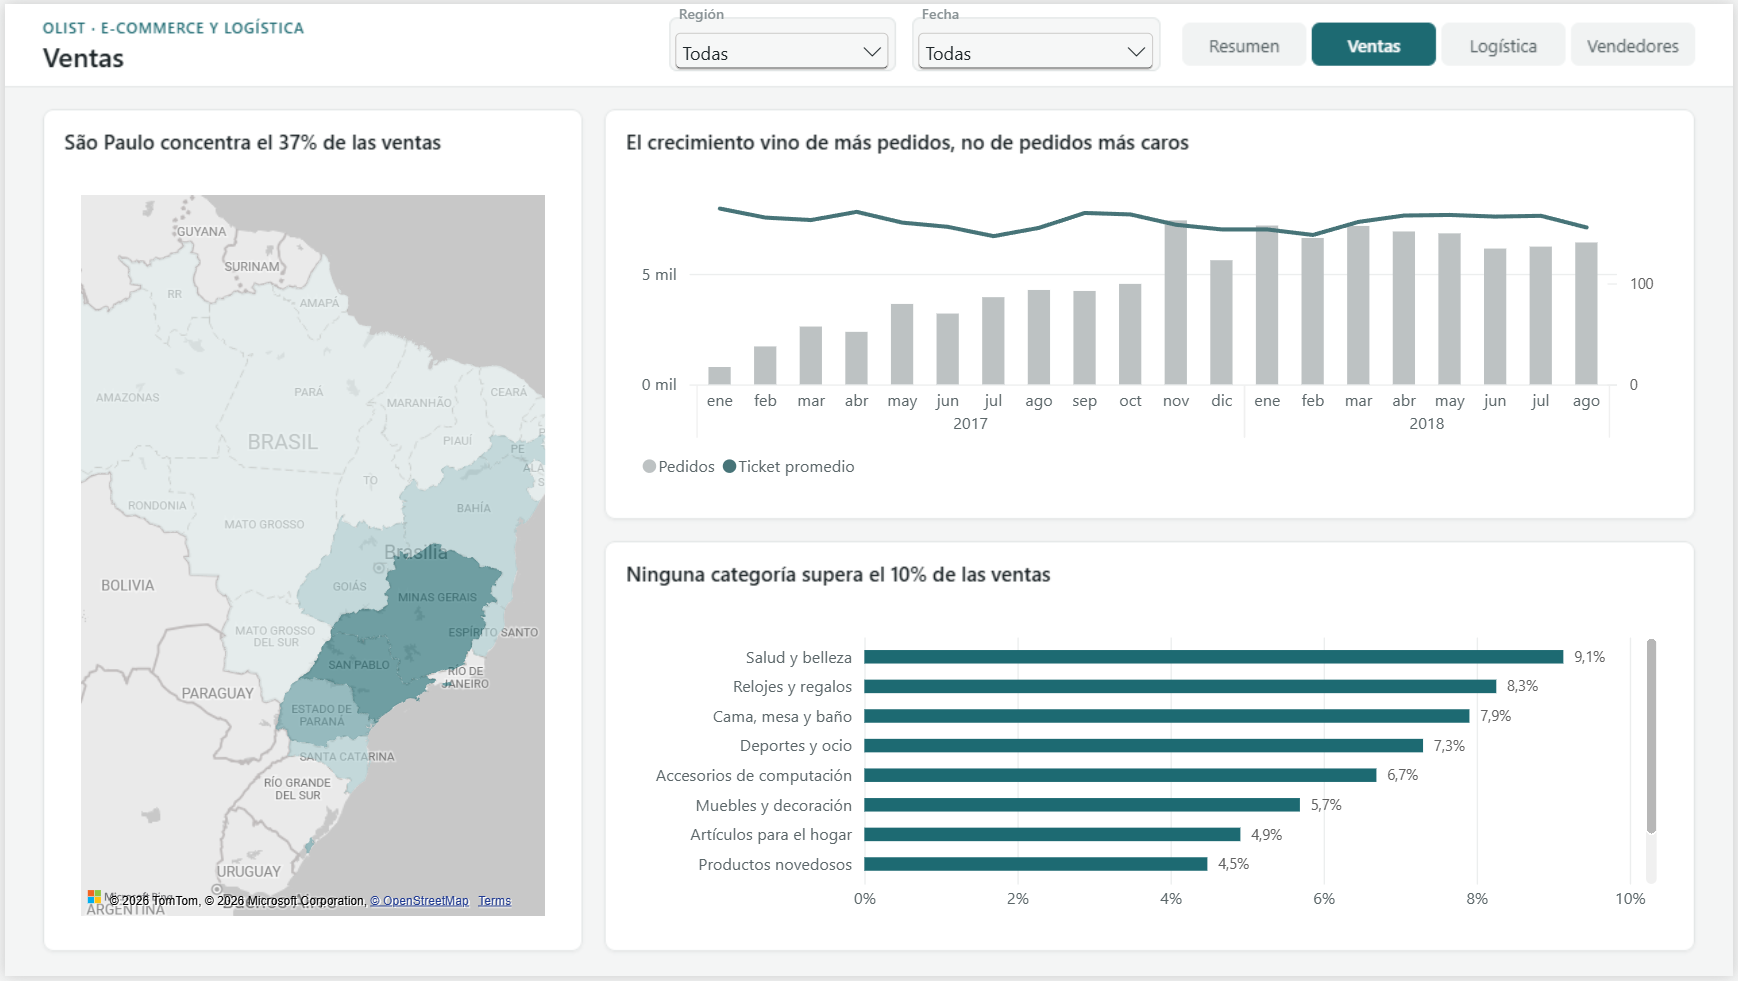

Layout of this report page (visuals, bound fields, positions):
{"tool":"powerbi","page":{"name":"Ventas","canvas":[1280,720],"ordinal":1},"visuals":[{"type":"filledMap","title":"São Paulo concentra el 37% de las ventas","fields":{"Category":["dim_estado.ubicacion_mapa"]},"box":[40,128,376,564],"z":0},{"type":"lineStackedColumnComboChart","title":"El crecimiento vino de más pedidos, no de pedidos más caros","fields":{"Category":["dim_fecha.Año","dim_fecha.Mes corto"],"Y":["_Medidas.Pedidos"],"Y2":["_Medidas.Ticket promedio"]},"box":[456,128,784,244],"z":1000},{"type":"clusteredBarChart","title":"Ninguna categoría supera el 10% de las ventas","fields":{"Category":["olist v_pbi_categorias.categoria_es"],"Y":["_Medidas.% de las ventas"]},"box":[456,448,784,244],"z":2000},{"type":"slicer","title":"Región","fields":{"Values":["dim_estado.region"]},"box":[491.4,0,168.6,51.4],"z":3000},{"type":"slicer","title":"Fecha","fields":{"Values":["dim_fecha.Date"]},"box":[671.4,0,184.3,51.4],"z":4000},{"type":"actionButton","box":[871.4,12.9,92.9,32.9],"z":5000},{"type":"actionButton","box":[967.1,12.9,92.9,32.9],"z":6000},{"type":"actionButton","box":[1064.3,12.9,92.9,32.9],"z":7000},{"type":"actionButton","box":[1158.6,12.9,92.9,32.9],"z":8000}]}

Visuals, with their boxes on the page's 1280x720 design canvas (x1, y1, x2, y2). These are canvas units, not pixel positions in the 1738x981 screenshot, which may show the page scaled, cropped or inside an application window:
"São Paulo concentra el 37% de las ventas" filledMap: bbox(40, 128, 416, 692)
"El crecimiento vino de más pedidos, no de pedidos más caros" lineStackedColumnComboChart: bbox(456, 128, 1240, 372)
"Ninguna categoría supera el 10% de las ventas" clusteredBarChart: bbox(456, 448, 1240, 692)
"Región" slicer: bbox(491, 0, 660, 51)
"Fecha" slicer: bbox(671, 0, 856, 51)
actionButton: bbox(871, 13, 964, 46)
actionButton: bbox(967, 13, 1060, 46)
actionButton: bbox(1064, 13, 1157, 46)
actionButton: bbox(1159, 13, 1252, 46)
